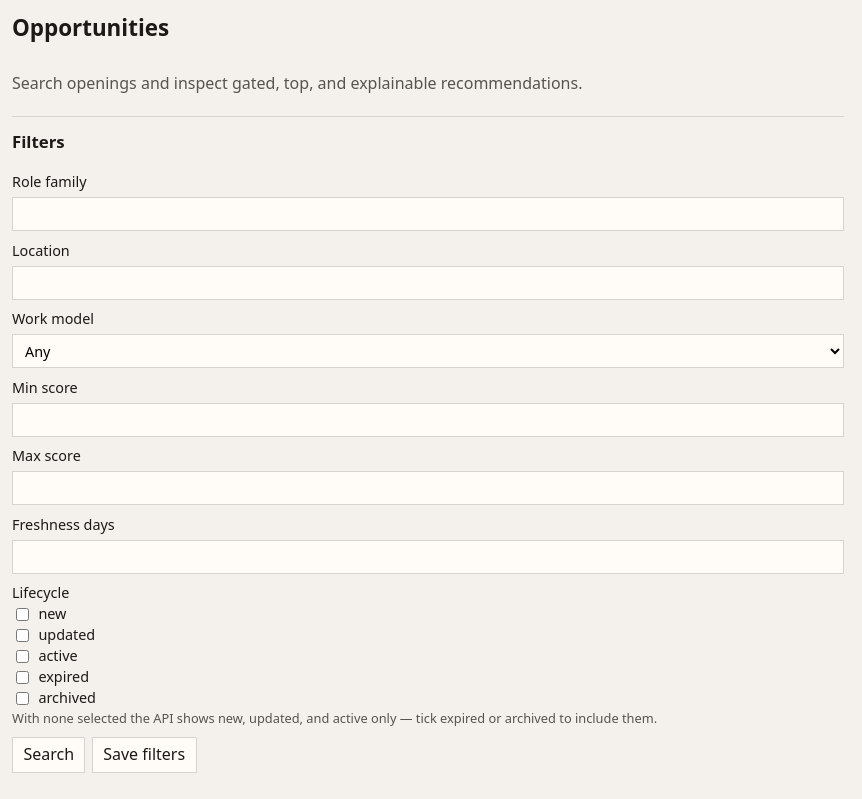
Test: OpportunitiesPage › shows SEARCH_SCORE_RANGE_INVALID when min score is above max
expect the button "Search" is enabled: met, box left=12, top=737, right=85, bottom=773
Type "90" into the number field labelled "Min score" at (428, 420), box left=12, top=403, right=844, bottom=437
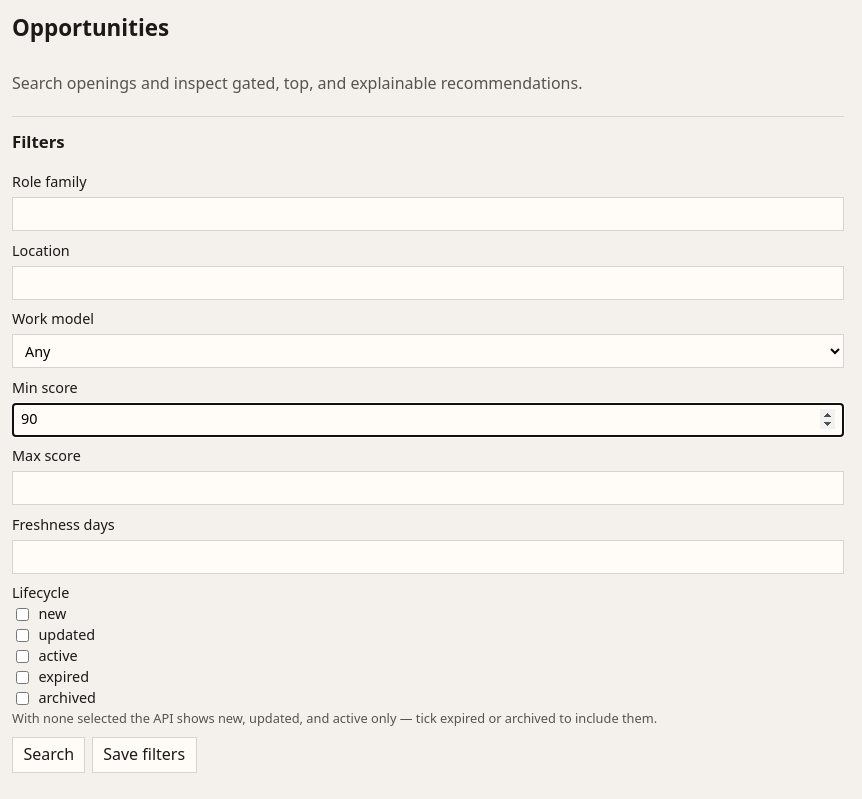
Type "10" into the number field labelled "Max score" at (428, 488), box left=12, top=471, right=844, bottom=505
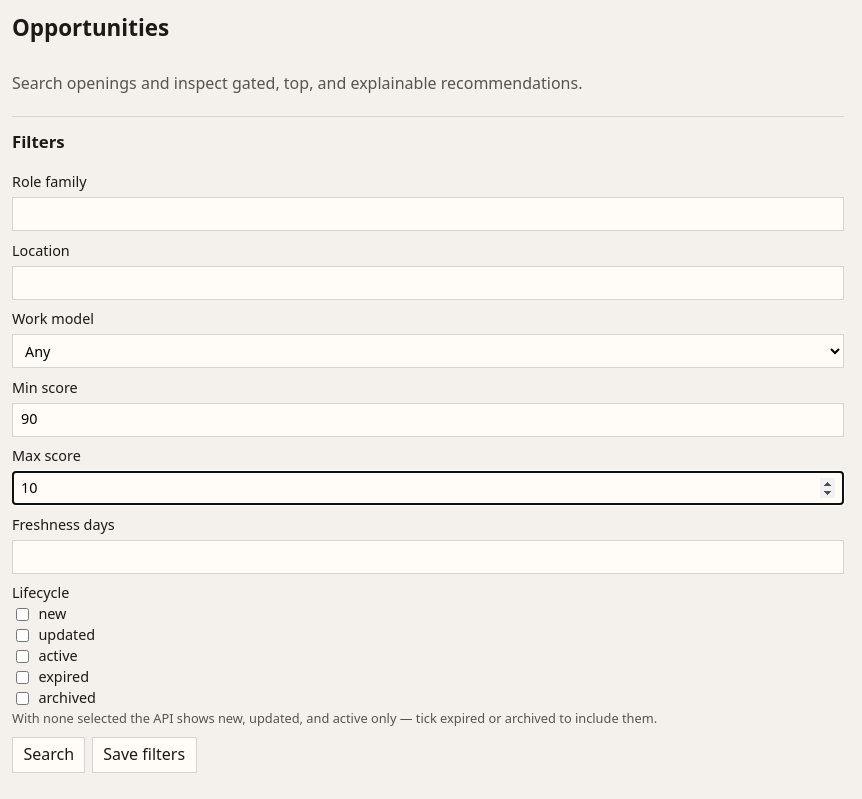
Click the button "Search" at (49, 755), box left=12, top=737, right=85, bottom=773
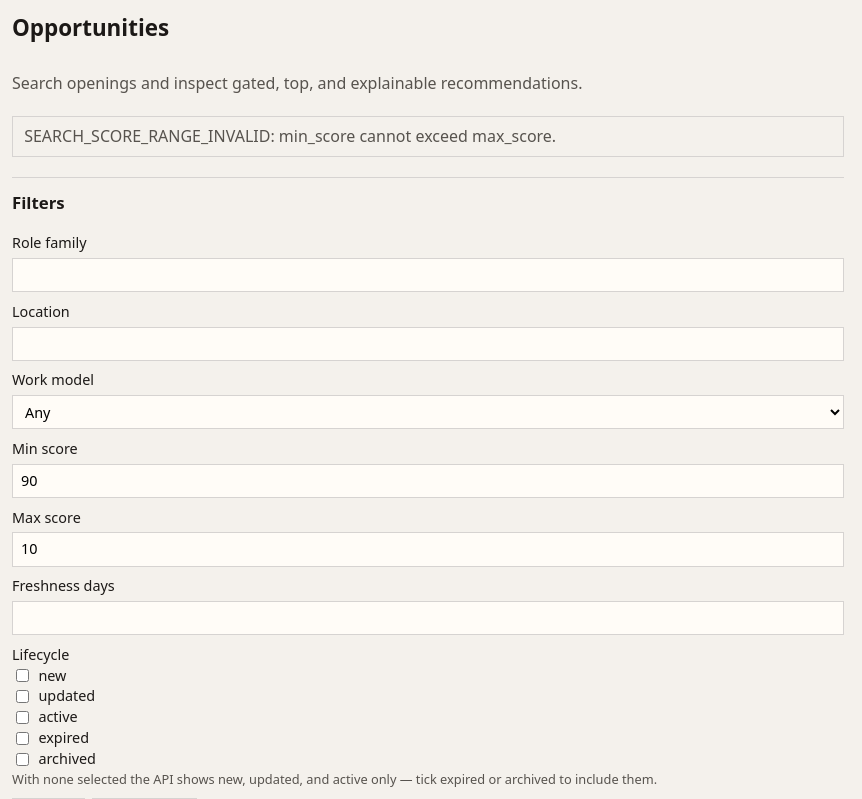
expect the message shows "SEARCH_SCORE_RANGE_INVALID": met, box left=24, top=125, right=556, bottom=147
